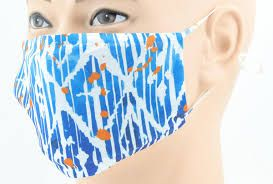with-mask: (14, 1, 246, 178)
